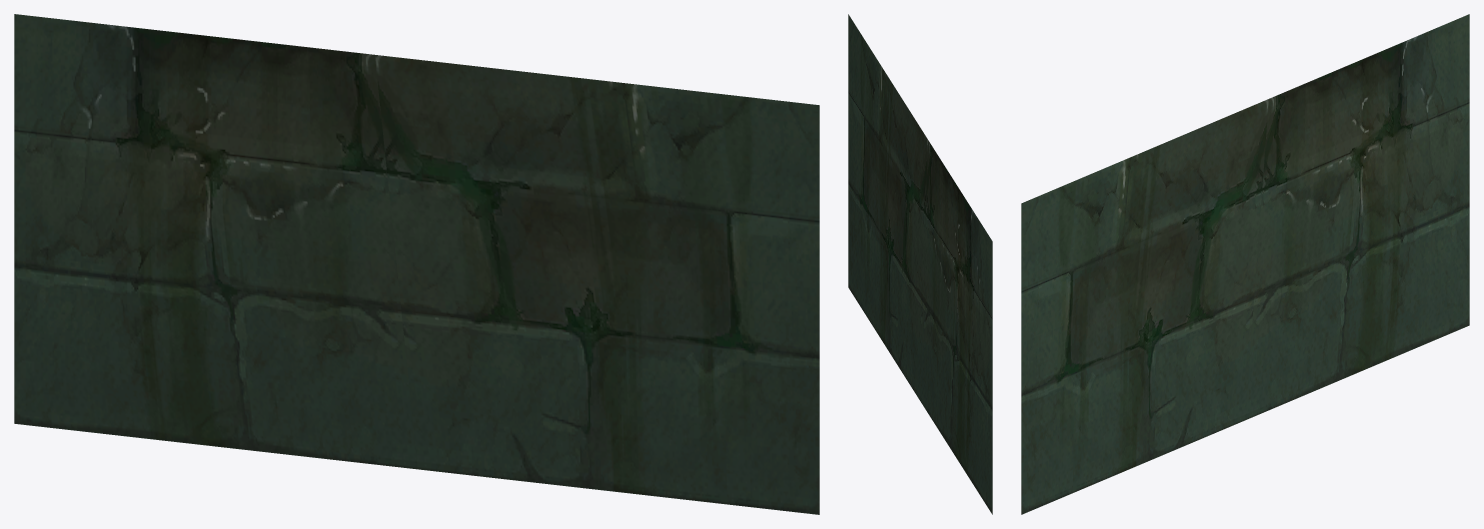
The model's file is stemple_half_diagonal_05.fbx.
3 views of the same model, side by side, from view 1: azimuth 30°, elevation 25°; view 2: azimuth 150°, elevation 25°; view 3: azimuth 270°, elevation 25° (orthographic). The views are drawn at different scales.
Visible parts, largest first — view 1: obj0.410; view 2: obj0.410; view 3: obj0.410.
Part boxes in pixels (x1=…): obj0.410: x1=14, y1=14, x2=819, y2=514; obj0.410: x1=848, y1=14, x2=992, y2=514; obj0.410: x1=1021, y1=14, x2=1469, y2=514.
Size of the model in its own units: 3.59 by 2.75 by 3.59.
